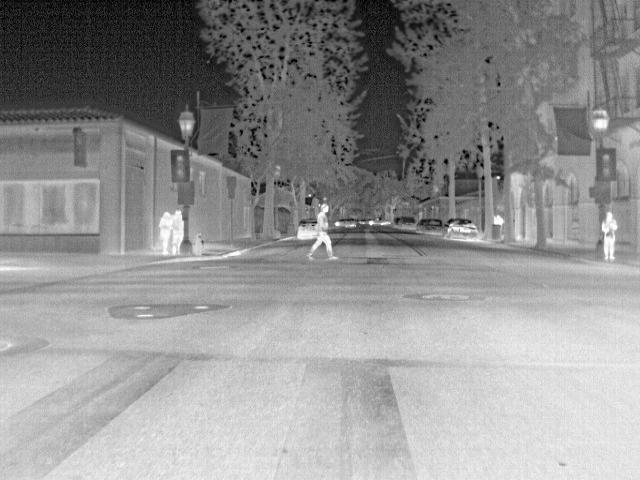car: (443, 219, 480, 241), (296, 216, 320, 238), (422, 218, 445, 236), (402, 214, 420, 232)
person: (307, 204, 339, 262), (601, 210, 621, 262), (169, 208, 188, 256), (158, 209, 172, 256)
